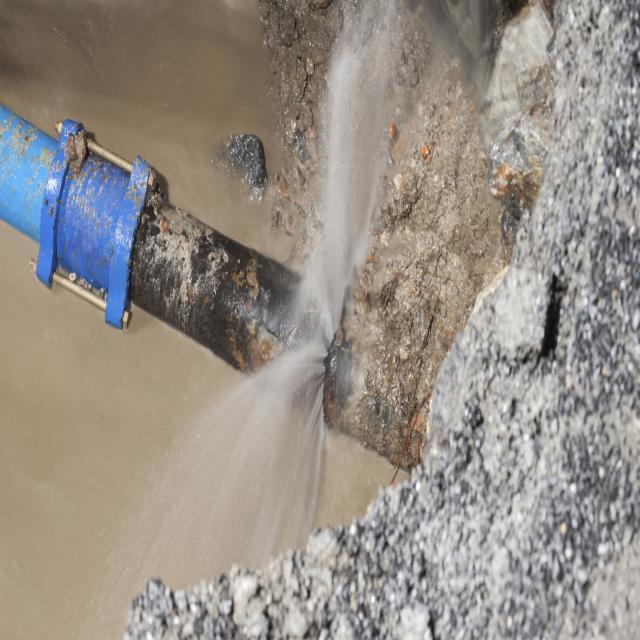pipe burst: (107, 2, 410, 614)
water accumulation: (0, 0, 411, 640)
